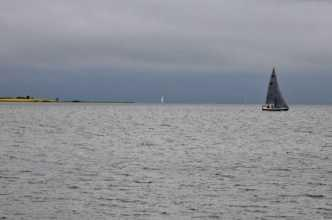fanchuan: (258, 64, 291, 112)
